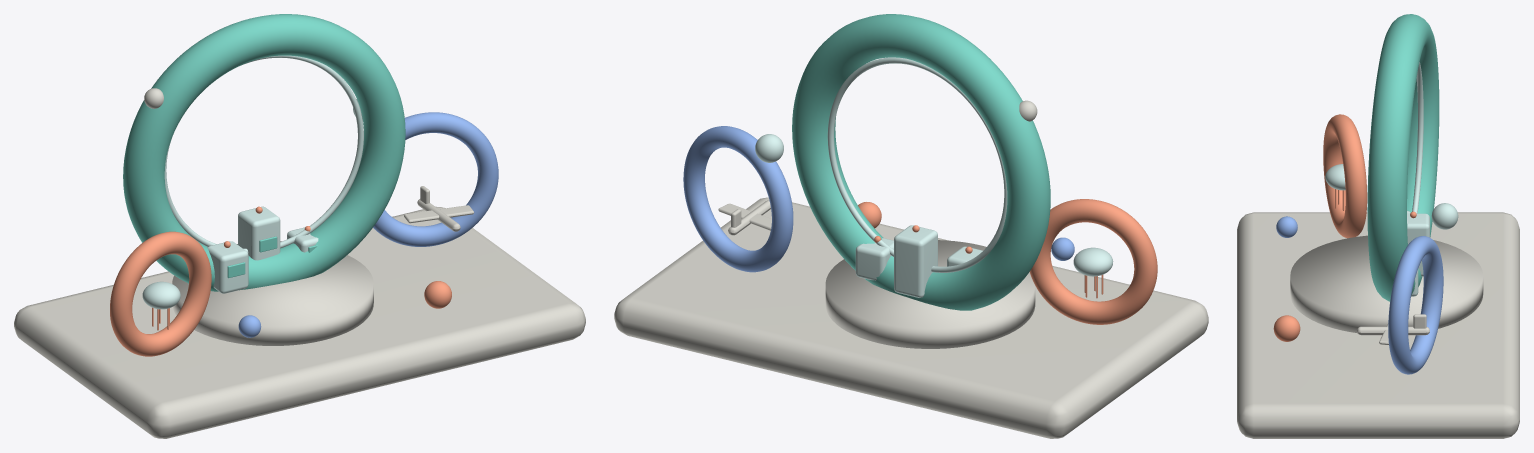
Rendered from portals.glb.
The picture shows the model from 3 angles, left to right: view 1: azimuth 30°, elevation 25°; view 2: azimuth 150°, elevation 25°; view 3: azimuth 270°, elevation 25°; orthographic projection. The views are drawn at different scales.
Visible parts, largest first — view 1: floating plinth, bayyina portal, Bayyina island, enec portal, marsad portal, inner pearl, evidence block.001, evidence block, marine bell, aircraft wing, satellite 0; view 2: floating plinth, bayyina portal, Bayyina island, enec portal, marsad portal, inner pearl, evidence block.001, evidence block.002, marine bell, satellite 2; view 3: floating plinth, bayyina portal, Bayyina island, marsad portal, enec portal, inner pearl, evidence block.001, satellite 2, satellite 0, aircraft body, marine bell, satellite 1.
Boxes of the visible parts, box(x1,y1,x2,y2) form: floating plinth: box(14, 206, 585, 438); bayyina portal: box(123, 14, 405, 291); Bayyina island: box(172, 241, 373, 345); enec portal: box(110, 231, 211, 356); marsad portal: box(373, 112, 498, 246); inner pearl: box(164, 55, 363, 253); evidence block.001: box(238, 206, 280, 260); evidence block: box(207, 241, 248, 293); marine bell: box(142, 281, 180, 309); aircraft wing: box(404, 205, 474, 223); satellite 0: box(424, 281, 451, 308); floating plinth: box(614, 197, 1208, 438); bayyina portal: box(792, 14, 1050, 310); Bayyina island: box(825, 240, 1035, 348); enec portal: box(1029, 199, 1157, 324); marsad portal: box(683, 126, 793, 272); inner pearl: box(827, 57, 1007, 272); evidence block.001: box(894, 225, 937, 297); evidence block.002: box(855, 238, 893, 280); marine bell: box(1073, 247, 1113, 276); satellite 2: box(755, 134, 783, 162); floating plinth: box(1237, 212, 1519, 438); bayyina portal: box(1367, 14, 1439, 301); Bayyina island: box(1290, 235, 1483, 333); marsad portal: box(1388, 236, 1443, 374); enec portal: box(1323, 114, 1367, 238); inner pearl: box(1412, 62, 1423, 213); evidence block.001: box(1407, 213, 1429, 276); satellite 2: box(1431, 203, 1458, 229); satellite 0: box(1273, 315, 1300, 341); aircraft body: box(1357, 326, 1429, 335); marine bell: box(1325, 164, 1345, 190); satellite 1: box(1276, 216, 1297, 237).
Bounding box in the file's own units: 5.8 × 4.04 × 3.4.
